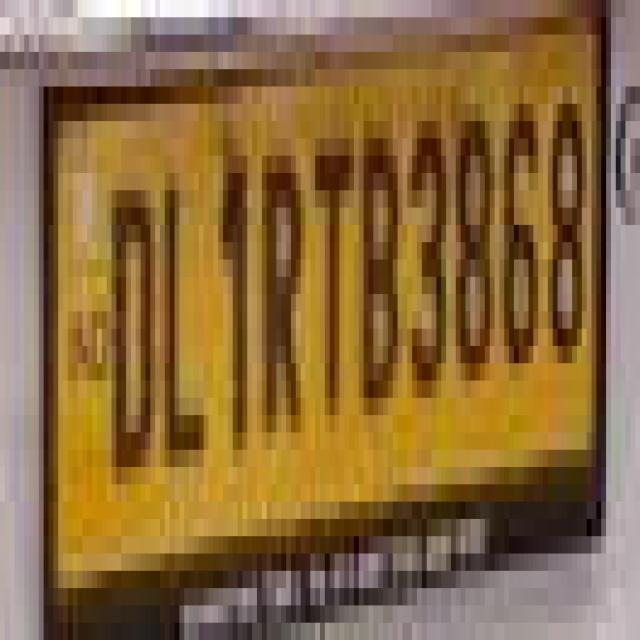1: (215, 144, 256, 459)
3: (408, 115, 450, 422)
6: (502, 87, 544, 365)
8: (549, 90, 588, 360), (457, 107, 491, 376)
B: (362, 112, 404, 423)
D: (105, 162, 161, 498)
L: (158, 167, 211, 474)
R: (261, 160, 307, 441)
T: (309, 121, 357, 429)
